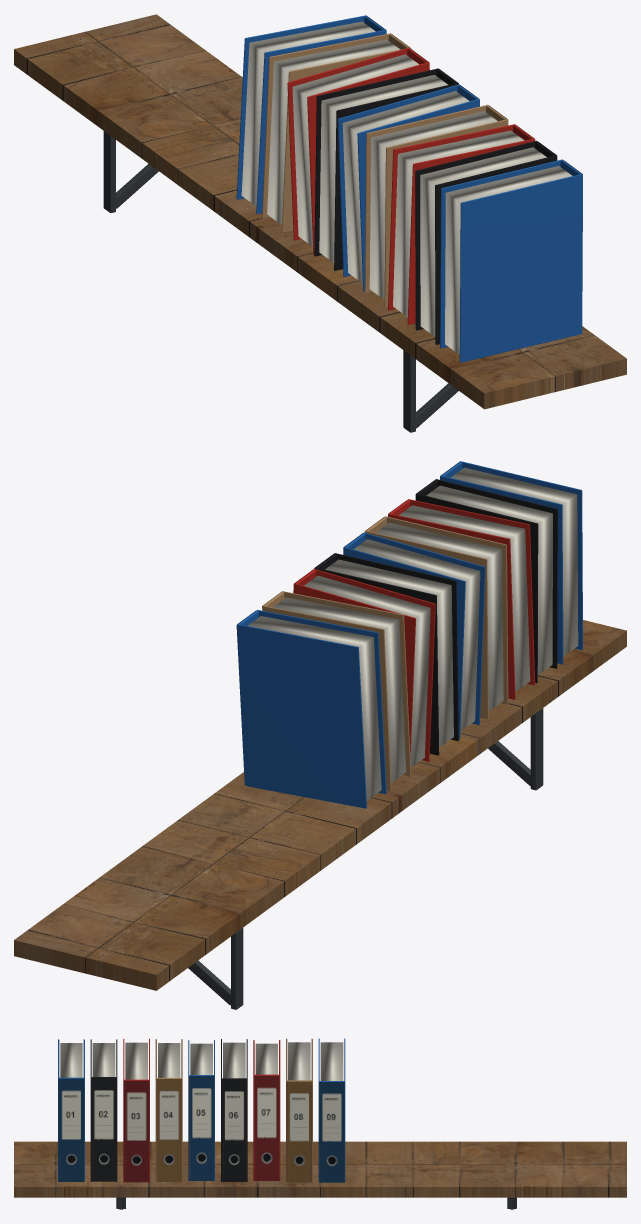
Rendered from pastas_prateleira_realista.glb.
The picture shows the model from 3 angles, top to bottom: view 1: azimuth 30°, elevation 25°; view 2: azimuth 150°, elevation 25°; view 3: azimuth 270°, elevation 25°; orthographic projection. The views are drawn at different scales.
Visible parts, largest first — view 1: Prateleira_Escritorio, Capa de arquivo, Miolo de papel.008, Miolo de papel.002, Miolo de papel, Miolo de papel.005, Miolo de papel.001, Miolo de papel.007, Miolo de papel.003, Miolo de papel.006, Miolo de papel.004, Capa de arquivo.003 (+20 smaller); view 2: Prateleira_Escritorio, Capa de arquivo.017, Miolo de papel.003, Miolo de papel.008, Miolo de papel.007, Miolo de papel.002, Miolo de papel.005, Miolo de papel, Miolo de papel.004, Miolo de papel.006, Miolo de papel.001, Capa de arquivo.001 (+18 smaller); view 3: Prateleira_Escritorio, Etiqueta e olhal 7, Etiqueta e olhal 5, Etiqueta e olhal 2, Etiqueta e olhal 1, Etiqueta e olhal 4, Etiqueta e olhal 6, Etiqueta e olhal 3, Etiqueta e olhal 8, Etiqueta e olhal 9, Miolo de papel.008, Miolo de papel.007 (+15 smaller).
Boxes of the visible parts, box(x1,y1,x2,y2) form: Prateleira_Escritorio: box(14, 14, 626, 409); Capa de arquivo: box(459, 174, 582, 362); Miolo de papel.008: box(241, 21, 375, 206); Miolo de papel.002: box(393, 130, 524, 316); Miolo de papel: box(445, 166, 572, 354); Miolo de papel.005: box(319, 75, 447, 262); Miolo de papel.001: box(420, 147, 546, 336); Miolo de papel.007: box(267, 39, 399, 224); Miolo de papel.003: box(369, 111, 497, 299); Miolo de papel.006: box(292, 54, 418, 246); Miolo de papel.004: box(342, 91, 469, 283); Capa de arquivo.003: box(415, 140, 537, 330); Prateleira_Escritorio: box(14, 620, 626, 990); Capa de arquivo.017: box(236, 624, 366, 808); Miolo de papel.003: box(375, 522, 503, 711); Miolo de papel.008: box(248, 616, 381, 800); Miolo de papel.007: box(273, 597, 406, 782); Miolo de papel.002: box(398, 505, 530, 691); Miolo de papel.005: box(325, 559, 453, 747); Miolo de papel: box(450, 467, 578, 656); Miolo de papel.004: box(353, 539, 480, 731); Miolo de papel.006: box(304, 575, 430, 767); Miolo de papel.001: box(426, 485, 552, 675); Capa de arquivo.001: box(440, 475, 563, 664); Prateleira_Escritorio: box(14, 1141, 626, 1197); Etiqueta e olhal 7: box(254, 1075, 279, 1180); Etiqueta e olhal 5: box(189, 1076, 214, 1180); Etiqueta e olhal 2: box(91, 1078, 116, 1181); Etiqueta e olhal 1: box(58, 1078, 83, 1181); Etiqueta e olhal 4: box(156, 1079, 181, 1181); Etiqueta e olhal 6: box(221, 1079, 246, 1181); Etiqueta e olhal 3: box(124, 1080, 149, 1182); Etiqueta e olhal 8: box(286, 1081, 311, 1182); Etiqueta e olhal 9: box(319, 1082, 344, 1182); Miolo de papel.008: box(320, 1042, 343, 1080); Miolo de papel.007: box(288, 1042, 310, 1080).
Bounding box in the file's own units: 0.28 × 0.4962 × 1.6.
Materials: 8 (2 with a texture image).
